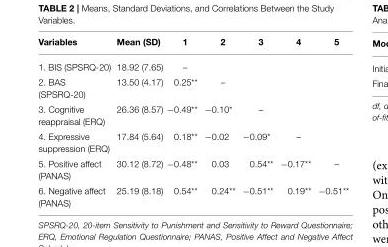table: (37, 37, 348, 207)
table column: (37, 37, 113, 207), (113, 37, 164, 207), (200, 37, 238, 207), (238, 37, 276, 207), (276, 37, 313, 207), (164, 37, 200, 207), (313, 37, 348, 207)
table column header: (37, 37, 348, 54)
table row: (37, 128, 348, 156), (37, 74, 348, 101), (37, 101, 348, 128), (37, 156, 348, 183), (37, 183, 348, 207), (37, 54, 348, 74), (37, 37, 348, 54)
